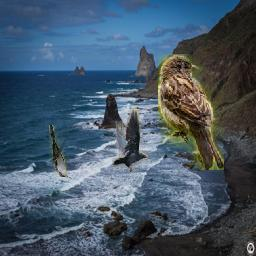Crow: (112, 106, 148, 172)
Cuckoo: (50, 125, 69, 177)
Sparrow: (158, 54, 224, 170)
